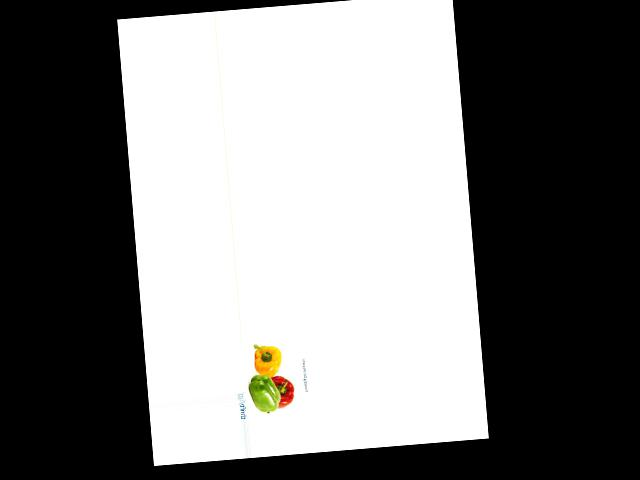bell_pepper: (244, 370, 281, 415)
